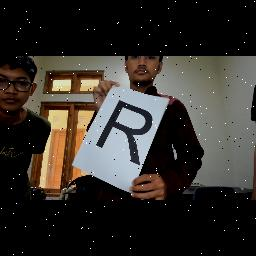r: (93, 92, 155, 170)
